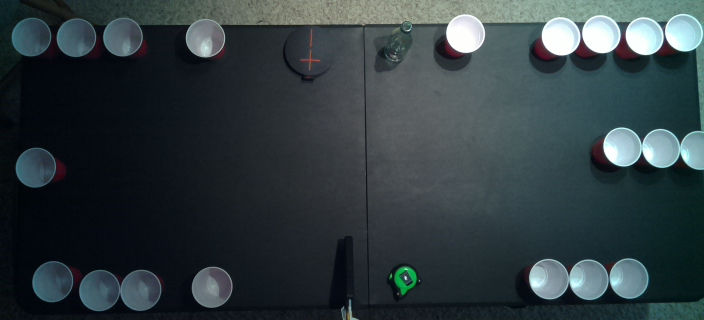active bp cup: (601, 125, 642, 168), (15, 146, 56, 188), (642, 128, 679, 168), (680, 130, 703, 171)
inactive bp cup: (29, 260, 74, 304), (188, 266, 233, 308), (119, 269, 162, 311), (77, 269, 119, 312), (568, 256, 609, 300), (527, 257, 568, 299), (609, 256, 649, 299), (184, 18, 225, 59), (580, 14, 621, 55), (10, 17, 52, 57), (539, 16, 581, 56), (445, 13, 485, 54), (102, 17, 143, 56), (56, 18, 97, 57), (623, 17, 663, 56), (664, 12, 703, 52)
